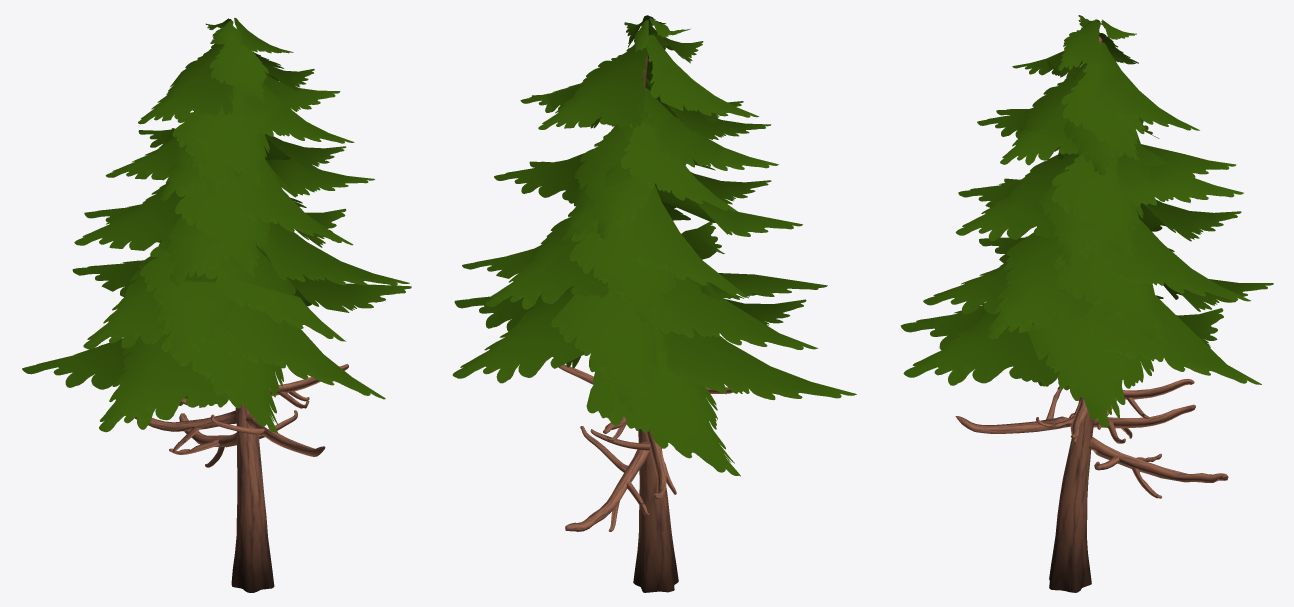
File: pine_1_lod2.glb
3 views of the same model, side by side, from view 1: azimuth 30°, elevation 25°; view 2: azimuth 150°, elevation 25°; view 3: azimuth 270°, elevation 25° (orthographic). The views are drawn at different scales.
Visible parts, largest first — view 1: Pine_1; view 2: Pine_1; view 3: Pine_1.
Boxes of the visible parts, left/top/right/bottom form: Pine_1: left=22, top=18, right=411, bottom=592; Pine_1: left=452, top=15, right=856, bottom=592; Pine_1: left=900, top=15, right=1273, bottom=592.
Size of the model in its own units: 4.94 by 7.32 by 4.54.
Materials: 2 (2 with a texture image).
